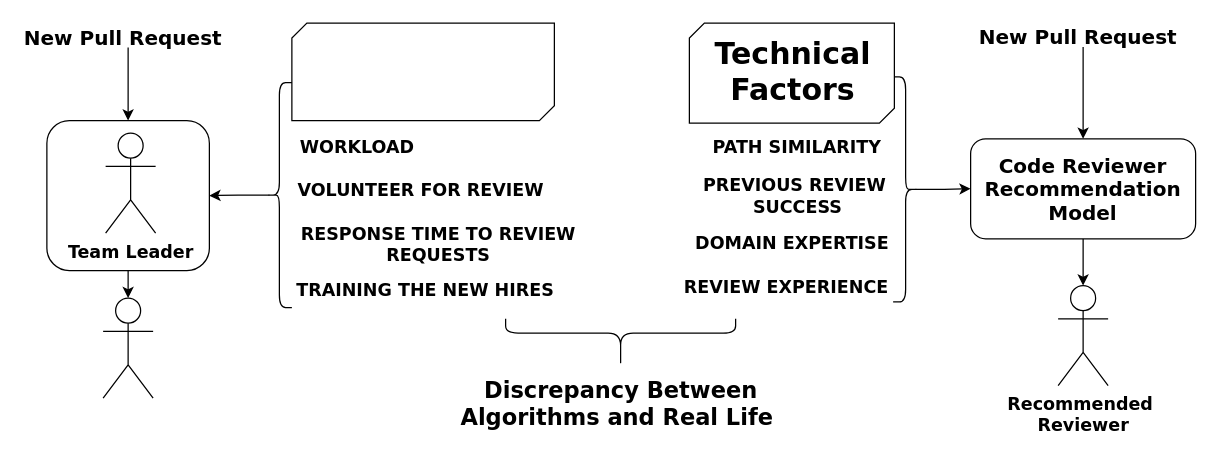
This 1218x470 diagram has some shape labels left out. Here are the shapes that lost their labels. From the top down, the centre of each, then its label:
At (422,71): "Non-Technical Factors".
At (127,347): "Assigned Reviewer".
